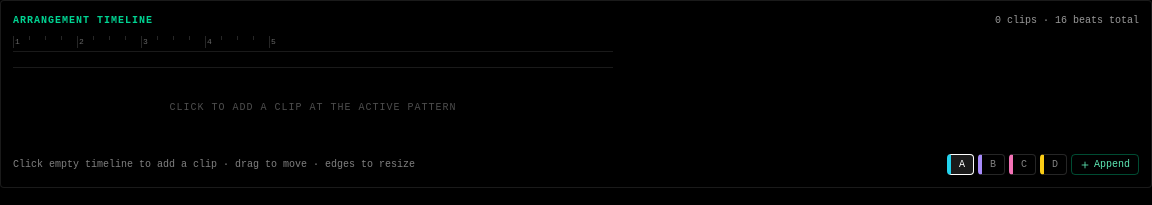
Test: ArrangementPanel › duplicates a clip
Click the button "Append". click: (1105, 164)
box: x1=1071 y1=154 x2=1139 y2=175
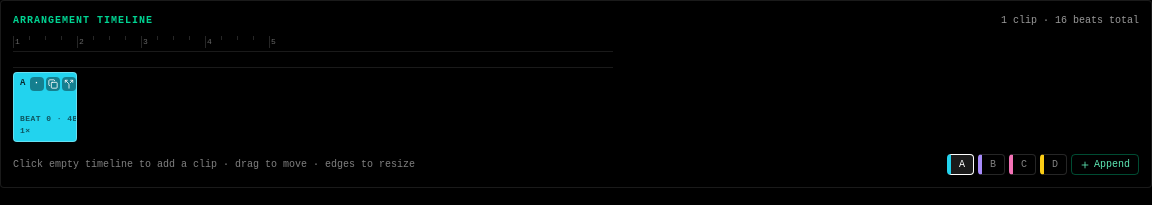
Click the button named "Duplicate clip". click: (53, 84)
box: x1=46 y1=77 x2=60 y2=91
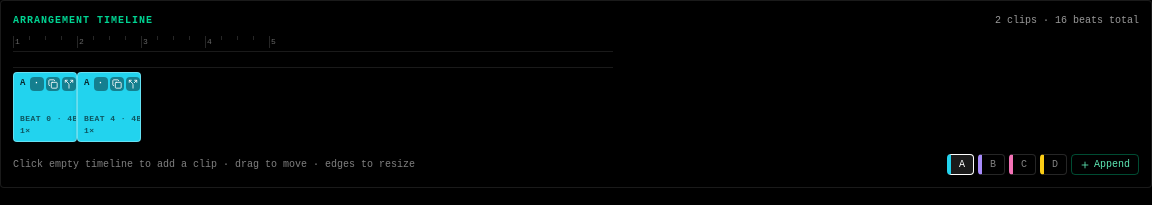
Now the text "2 clips · 16 beats total" is shown, box x1=995 y1=13 x2=1139 y2=28
